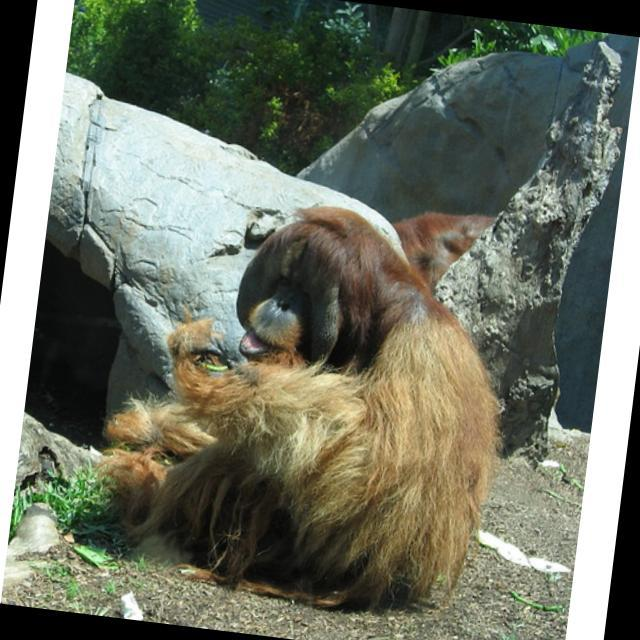Orangutan: (101, 195, 508, 607)
